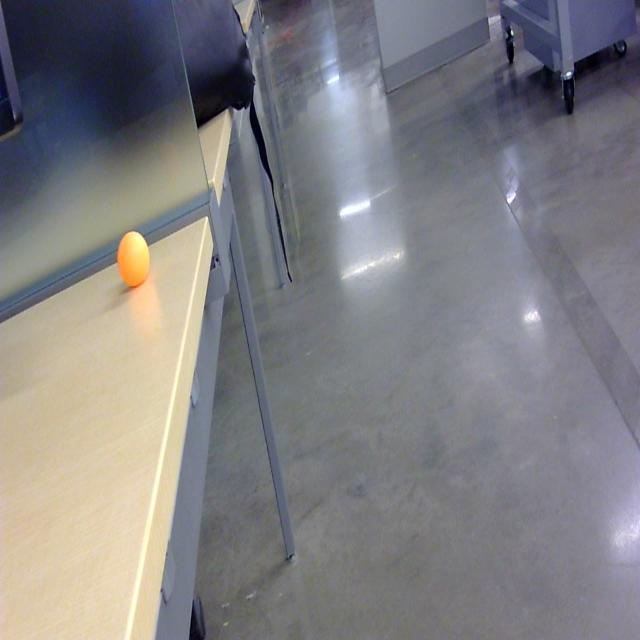ball: (118, 227, 150, 290)
